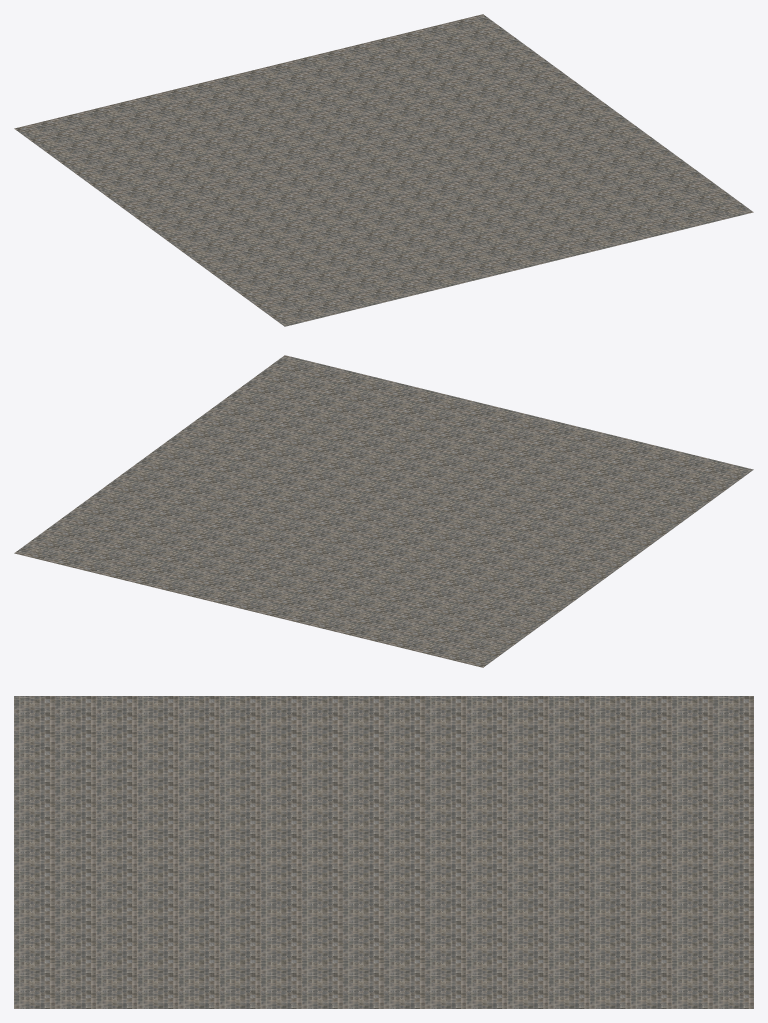
The model's file is floor.obj.
The picture shows the model from 3 angles, top to bottom: view 1: azimuth 30°, elevation 25°; view 2: azimuth 150°, elevation 25°; view 3: azimuth 270°, elevation 25°; orthographic projection. The views are drawn at different scales.
Parts seen in each view (by area): view 1: Cube; view 2: Cube; view 3: Cube.
Boxes of the visible parts, <box> form: Cube: <box>14,14,753,326</box>; Cube: <box>14,355,753,667</box>; Cube: <box>14,696,753,1008</box>.
Bounding box in the file's own units: 36 × 0 × 36.
1 material, 1 textured.
